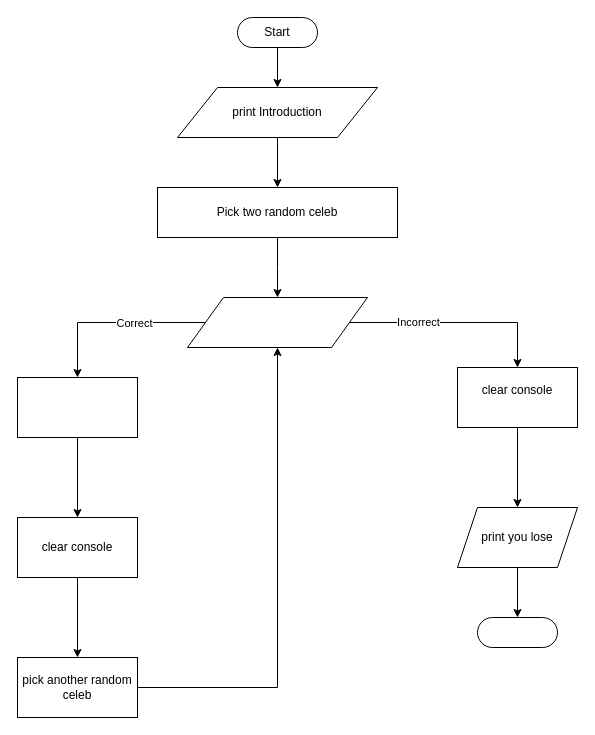
The diagram is 595 pixels wide and 735 high, and some of its shapes have lost their labels. Each missing label, with the centre of its shape:
add one point: (x=77, y=407)
end game: (x=517, y=632)
Take user guess: (x=277, y=322)
